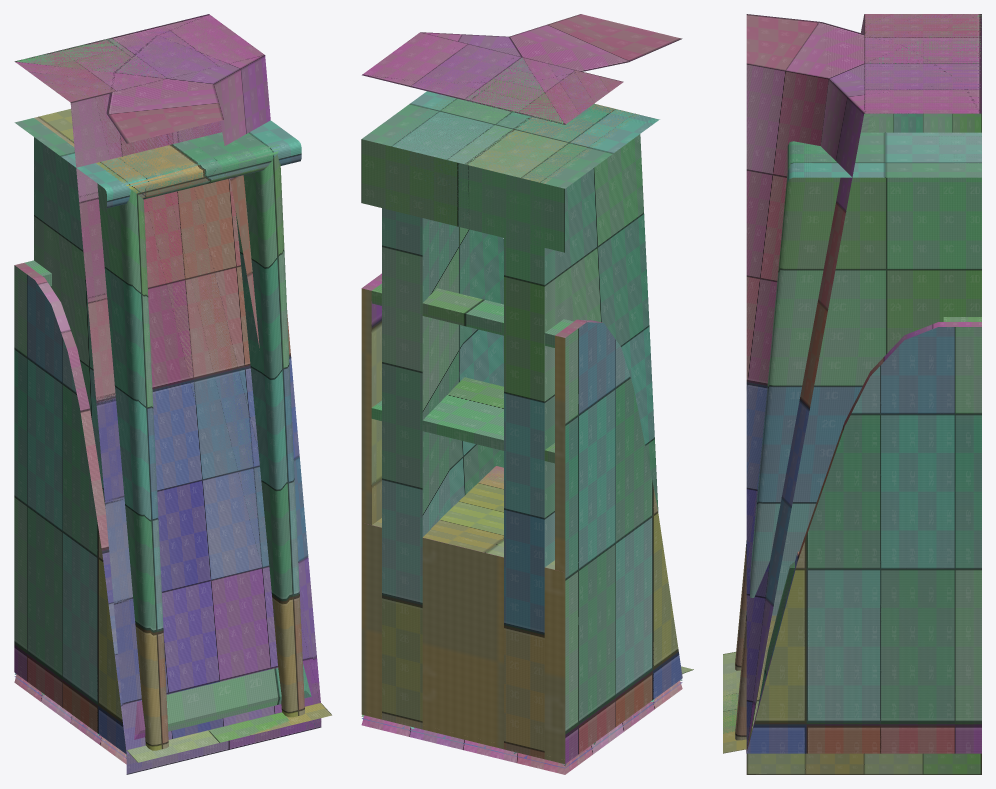
Rendered from kitchen_pieces.glb.
3 views of the same model, side by side, from view 1: azimuth 30°, elevation 25°; view 2: azimuth 150°, elevation 25°; view 3: azimuth 270°, elevation 25° (orthographic). The views are drawn at different scales.
Visible parts, largest first — view 1: wall, wall_doorway_L, display_case, wall_doorway_R, wall_corner_convex, wall_corner_concave, display_case_flat, floor_kitchen; view 2: wall_doorway_L, wall_doorway_R, display_case, display_case_flat, wall, wall_corner_convex, wall_corner_concave, floor_kitchen; view 3: display_case, wall_doorway_R, wall_corner_convex, display_case_flat, wall_doorway_L, wall, wall_corner_concave.
Part boxes in pixels (left/top/right/bottom): wall: left=15, top=14, right=321, bottom=774; wall_doorway_L: left=31, top=14, right=331, bottom=774; display_case: left=14, top=260, right=311, bottom=754; wall_doorway_R: left=14, top=14, right=320, bottom=774; wall_corner_convex: left=106, top=14, right=320, bottom=702; wall_corner_concave: left=14, top=38, right=318, bottom=699; display_case_flat: left=32, top=519, right=129, bottom=754; floor_kitchen: left=14, top=674, right=126, bottom=764; wall_doorway_L: left=361, top=32, right=658, bottom=759; wall_doorway_R: left=364, top=34, right=693, bottom=729; display_case: left=361, top=273, right=682, bottom=763; display_case_flat: left=361, top=466, right=681, bottom=763; wall: left=362, top=32, right=622, bottom=124; wall_corner_convex: left=363, top=14, right=682, bottom=82; wall_corner_concave: left=464, top=57, right=622, bottom=124; floor_kitchen: left=361, top=680, right=682, bottom=774; display_case: left=747, top=317, right=981, bottom=753; wall_doorway_R: left=723, top=16, right=981, bottom=740; wall_corner_convex: left=746, top=14, right=980, bottom=751; display_case_flat: left=746, top=551, right=943, bottom=753; wall_doorway_L: left=723, top=14, right=981, bottom=753; wall: left=863, top=14, right=981, bottom=113; wall_corner_concave: left=746, top=14, right=981, bottom=774.
Bounding box in the file's own units: 1 × 3.1 × 1.1.
Materials: 1 (1 with a texture image).
